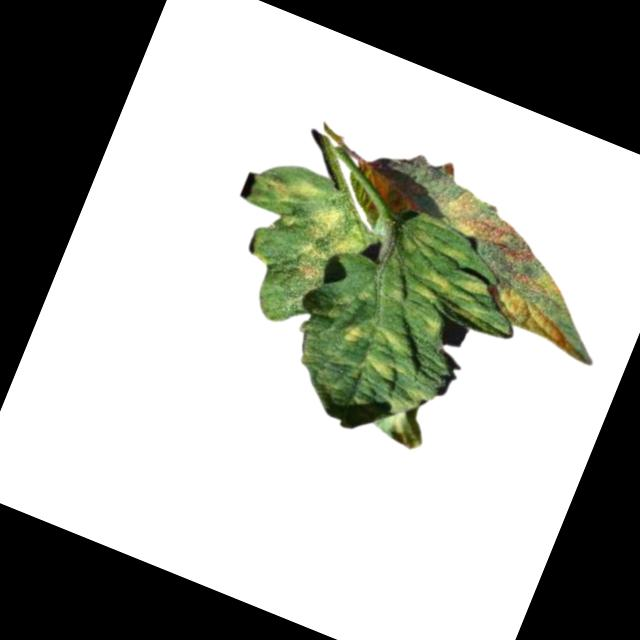Leaf_Mold: (350, 133, 532, 254), (480, 251, 618, 366), (282, 196, 376, 301), (334, 311, 416, 383), (409, 258, 495, 325), (258, 163, 326, 214)
